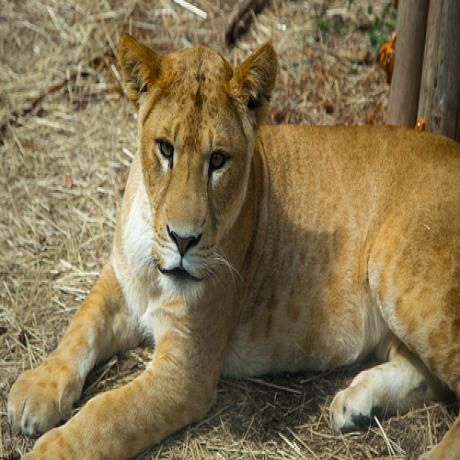Lion: (0, 19, 460, 460)
